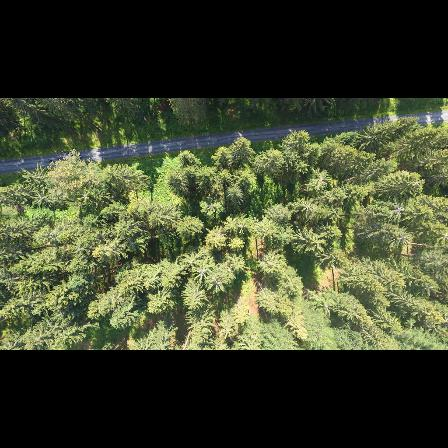Sick: (189, 263, 215, 284), (357, 268, 382, 289), (389, 200, 411, 217)
